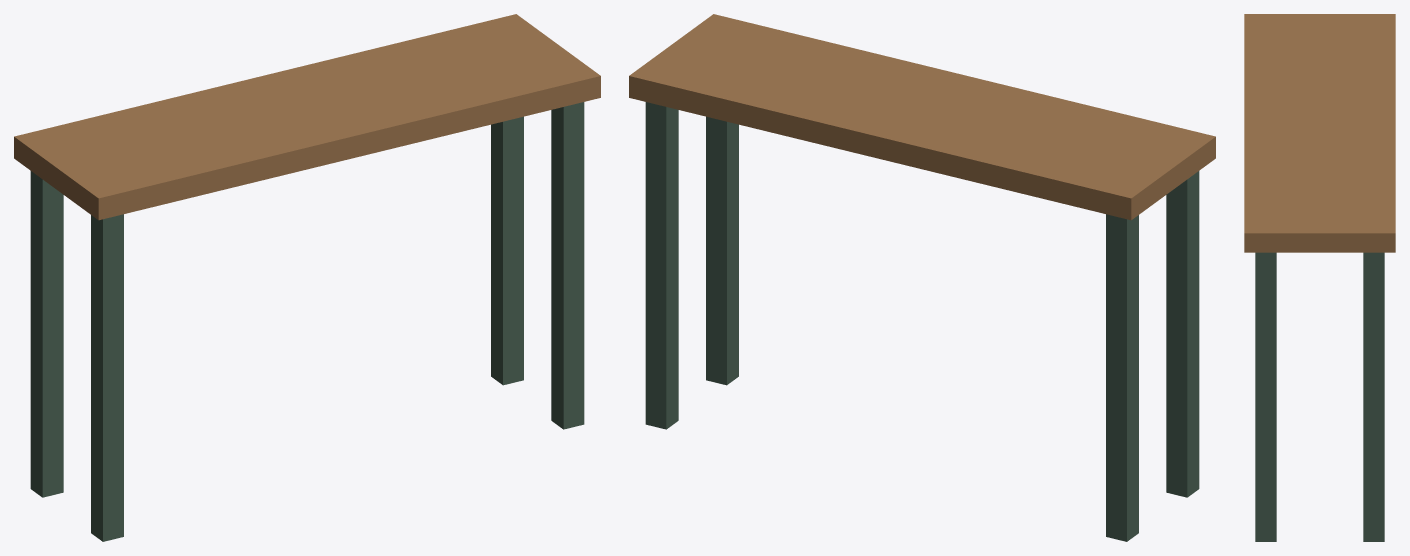
3 views of the same model, side by side, from view 1: azimuth 30°, elevation 25°; view 2: azimuth 150°, elevation 25°; view 3: azimuth 270°, elevation 25° (orthographic). The views are drawn at different scales.
Visible parts, largest first — view 1: top, leg-1-1, leg-0-1, leg-0-0, leg-1-0; view 2: top, leg-1-0, leg-0-0, leg-0-1, leg-1-1; view 3: top, leg-1-0, leg-1-1.
Part boxes in pixels (<box>): top: <box>14,14,600,220</box>; leg-1-1: <box>551,102,584,429</box>; leg-0-1: <box>91,214,123,541</box>; leg-0-0: <box>30,171,63,497</box>; leg-1-0: <box>491,116,523,385</box>; top: <box>629,14,1215,220</box>; leg-1-0: <box>645,102,678,429</box>; leg-0-0: <box>1106,214,1138,541</box>; leg-0-1: <box>1166,171,1199,497</box>; leg-1-1: <box>706,116,738,385</box>; top: <box>1244,14,1395,252</box>; leg-1-0: <box>1363,252,1384,541</box>; leg-1-1: <box>1255,252,1276,541</box>.
Size of the model in its own units: 1.2 by 0.8 by 0.35.
